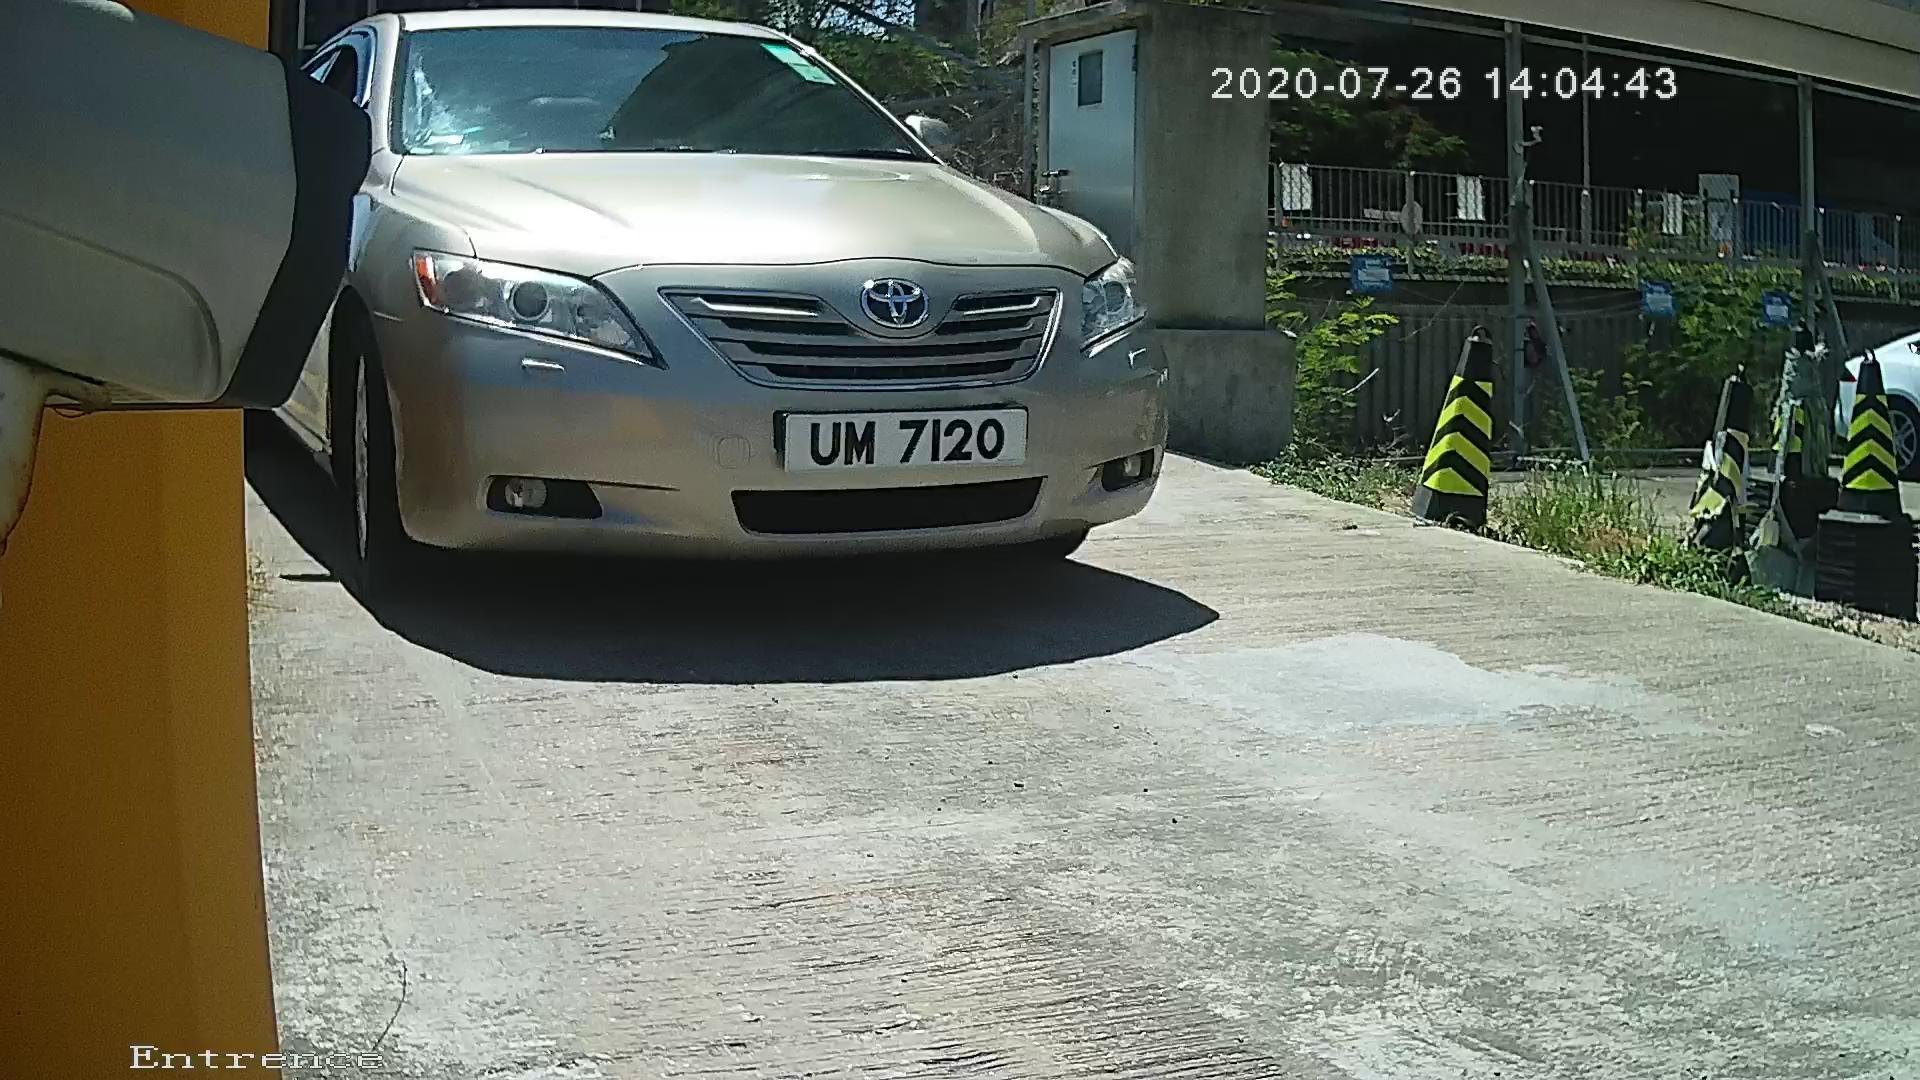privatecar: (258, 25, 1269, 642)
